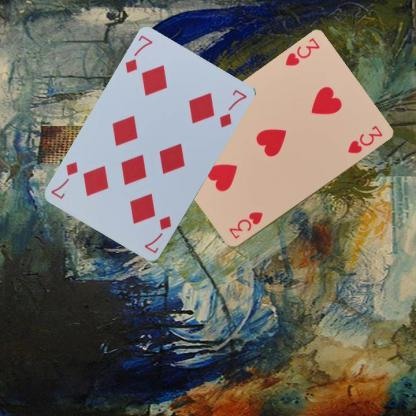3h: (283, 35, 321, 68), (226, 209, 264, 240)
7d: (122, 32, 154, 75), (142, 214, 172, 255)
